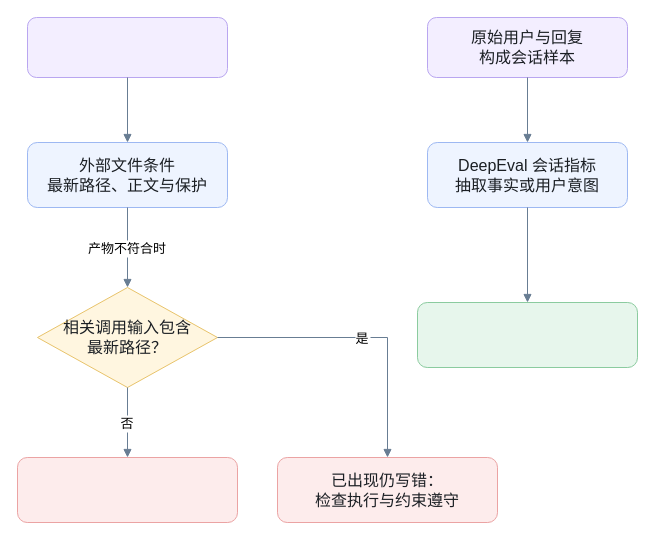
This 655x540 diagram has some shape labels left out. The centre of each missing label's shape, as x and y in pixels:
保留单位与逐项裁决 会话分不证明文件正确: point 527,335
按用户更新核对 覆盖、取消、保留: point 127,47
未出现：检查压缩 或读取归档恢复: point 127,489
